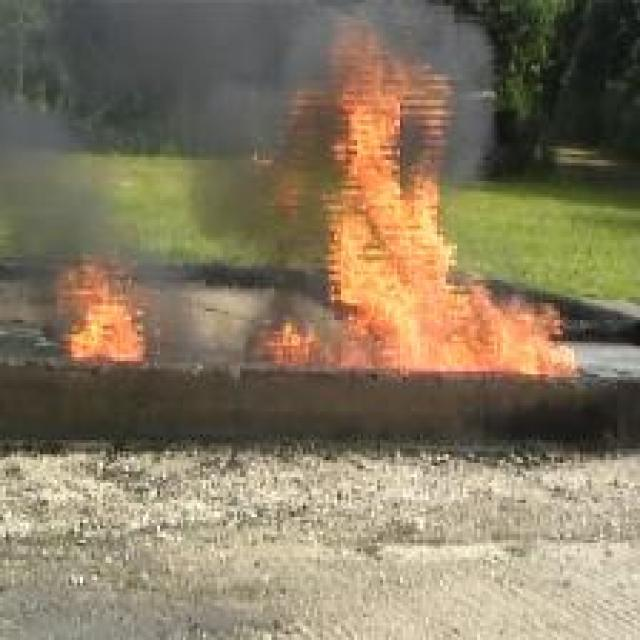Fire: (254, 25, 580, 372), (62, 256, 150, 362)
